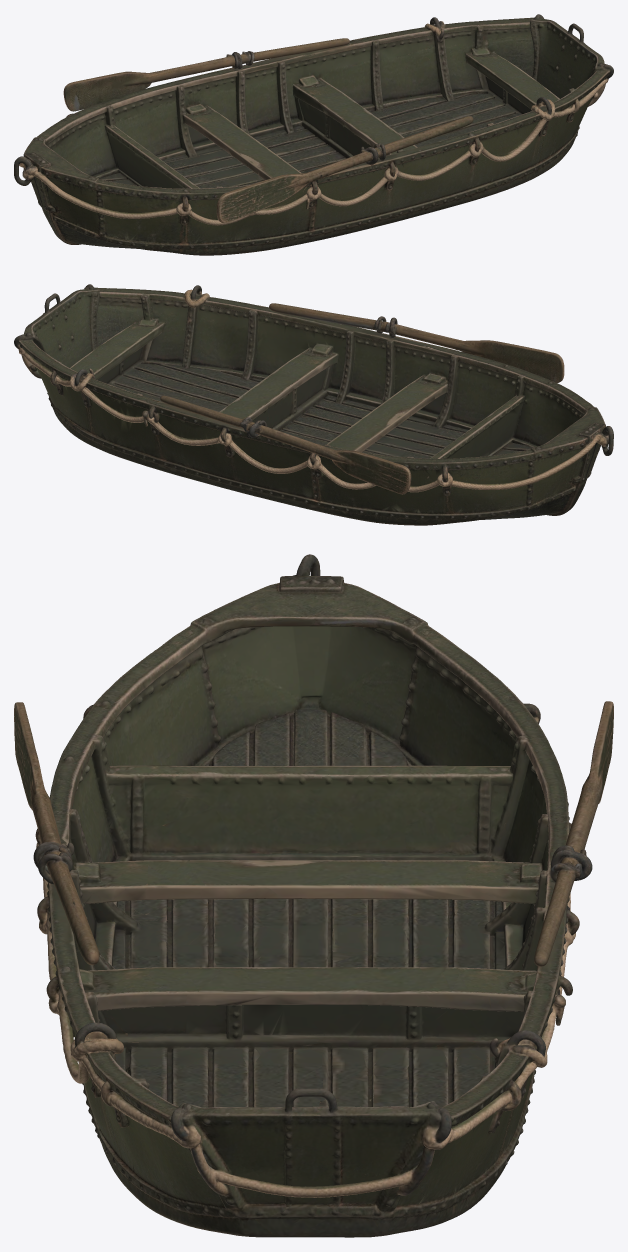
File: landing-boat.glb
The picture shows the model from 3 angles, top to bottom: view 1: azimuth 30°, elevation 25°; view 2: azimuth 150°, elevation 25°; view 3: azimuth 270°, elevation 25°; orthographic projection. The views are drawn at different scales.
Size of the model in its own units: 1.9 by 0.3281 by 0.9081.
Materials: 1 (1 with a texture image).
